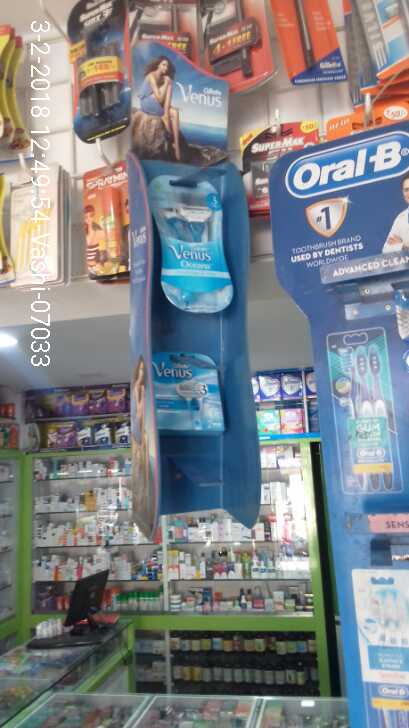venus: (144, 173, 245, 326), (156, 343, 218, 431)
